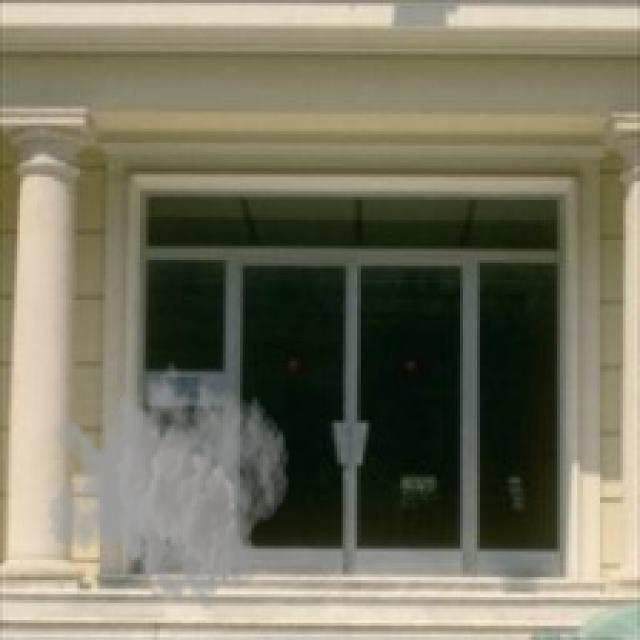Smoke: (46, 352, 292, 614)
